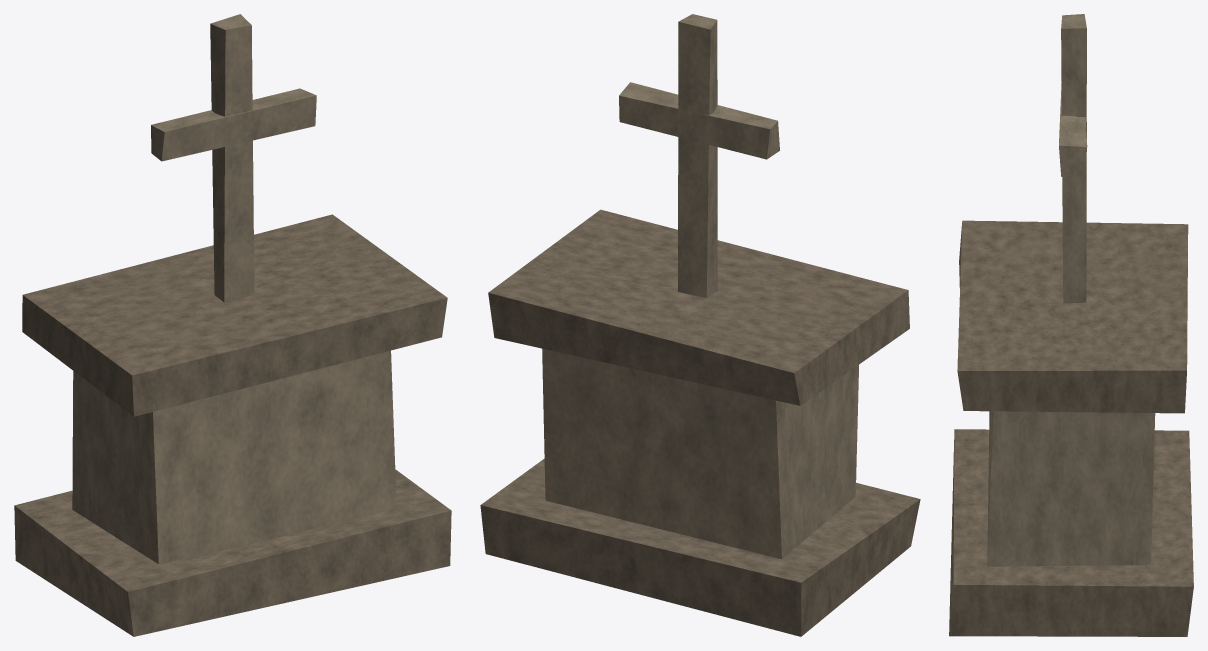
File: altar.glb
The picture shows the model from 3 angles, left to right: view 1: azimuth 30°, elevation 25°; view 2: azimuth 150°, elevation 25°; view 3: azimuth 270°, elevation 25°; orthographic projection.
Parts seen in each view (by area): view 1: Cube; view 2: Cube; view 3: Cube.
Part boxes in pixels (x1=…): Cube: x1=14, y1=14, x2=451, y2=636; Cube: x1=480, y1=14, x2=920, y2=636; Cube: x1=949, y1=14, x2=1193, y2=636.
Bounding box in the file's own units: 1.42 × 2.26 × 0.9229.
Materials: 1 (1 with a texture image).
